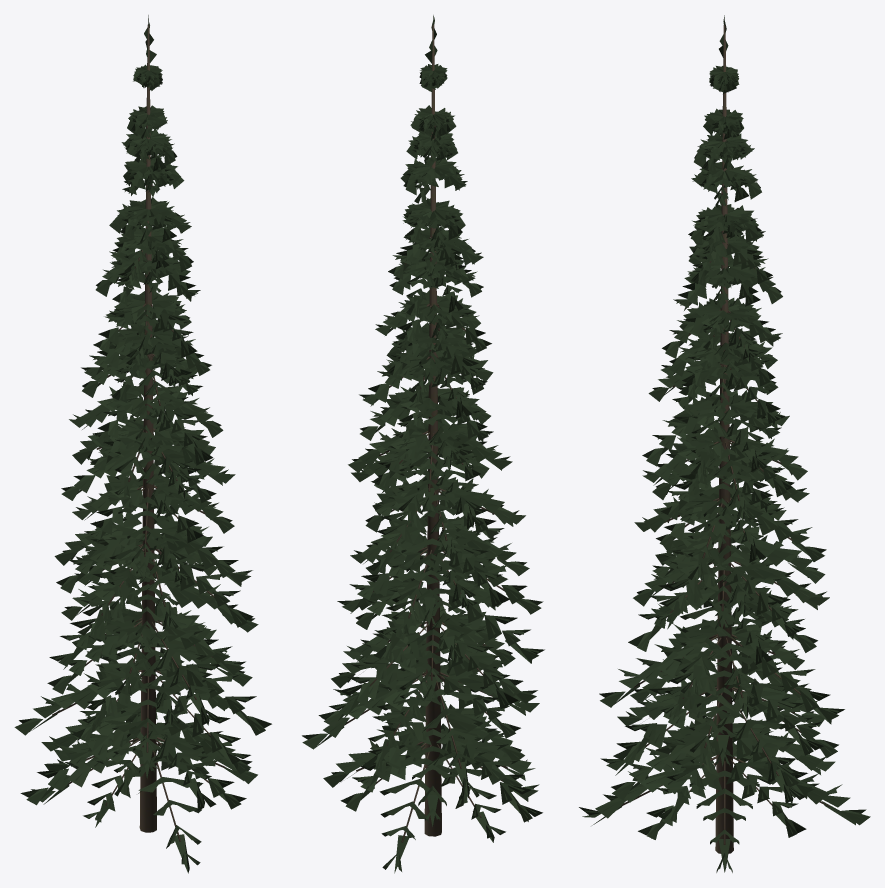
Rendered from forest-spruce_high.glb.
3 views of the same model, side by side, from view 1: azimuth 30°, elevation 25°; view 2: azimuth 150°, elevation 25°; view 3: azimuth 270°, elevation 25° (orthographic). The views are drawn at different scales.
Parts seen in each view (by area): view 1: forest-spruce-needles, forest-bark; view 2: forest-spruce-needles, forest-bark; view 3: forest-spruce-needles, forest-bark.
Part boxes in pixels (left/top/right/bottom): forest-spruce-needles: left=14, top=15, right=271, bottom=873; forest-bark: left=52, top=24, right=225, bottom=841; forest-spruce-needles: left=302, top=15, right=544, bottom=873; forest-bark: left=344, top=24, right=507, bottom=842; forest-spruce-needles: left=579, top=15, right=870, bottom=872; forest-bark: left=621, top=25, right=829, bottom=853.
Bounding box in the file's own units: 5.14 × 18.04 × 5.8.
2 materials, 1 textured.
